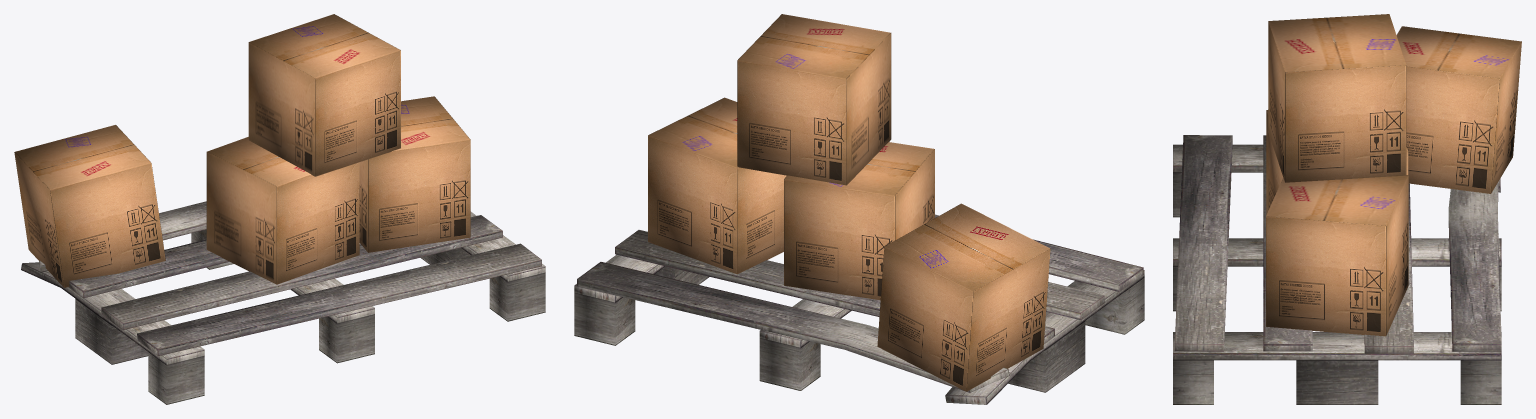
The model's file is PalletBoxes.fbx.
3 renders of one model, left to right at view 1: azimuth 30°, elevation 25°; view 2: azimuth 150°, elevation 25°; view 3: azimuth 270°, elevation 25°, orthographic. The views are drawn at different scales.
Parts seen in each view (by area): view 1: PalletBoxes; view 2: PalletBoxes; view 3: PalletBoxes.
Boxes of the visible parts, x1,y1,x2,y2 form: PalletBoxes: [14, 14, 545, 404]; PalletBoxes: [574, 14, 1144, 404]; PalletBoxes: [1173, 14, 1521, 404].
Size of the model in its own units: 125187 by 75338 by 84937.
